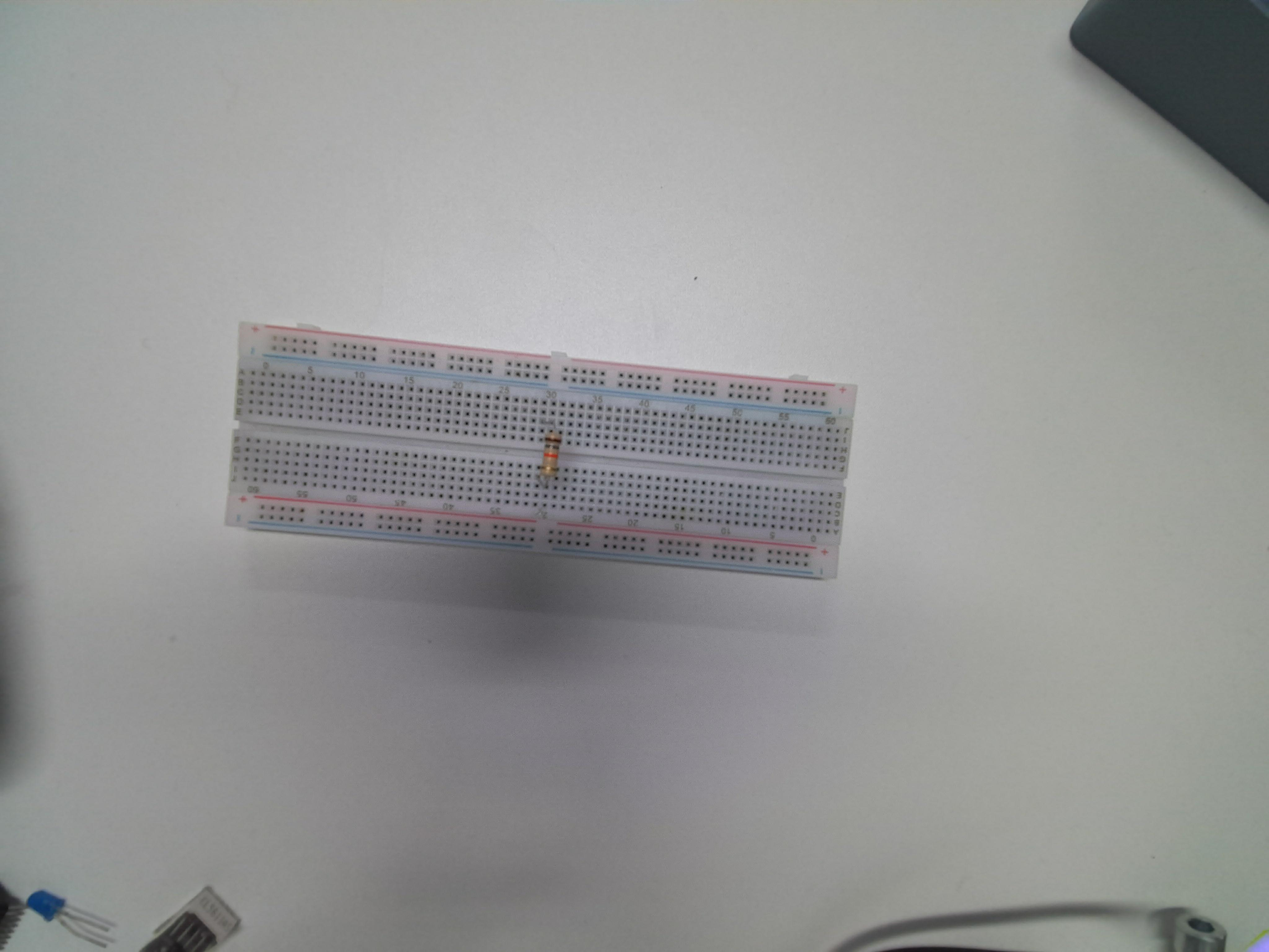base: (226, 319, 860, 587)
blue-led: (23, 885, 65, 923)
resistor-big: (536, 421, 565, 480)
